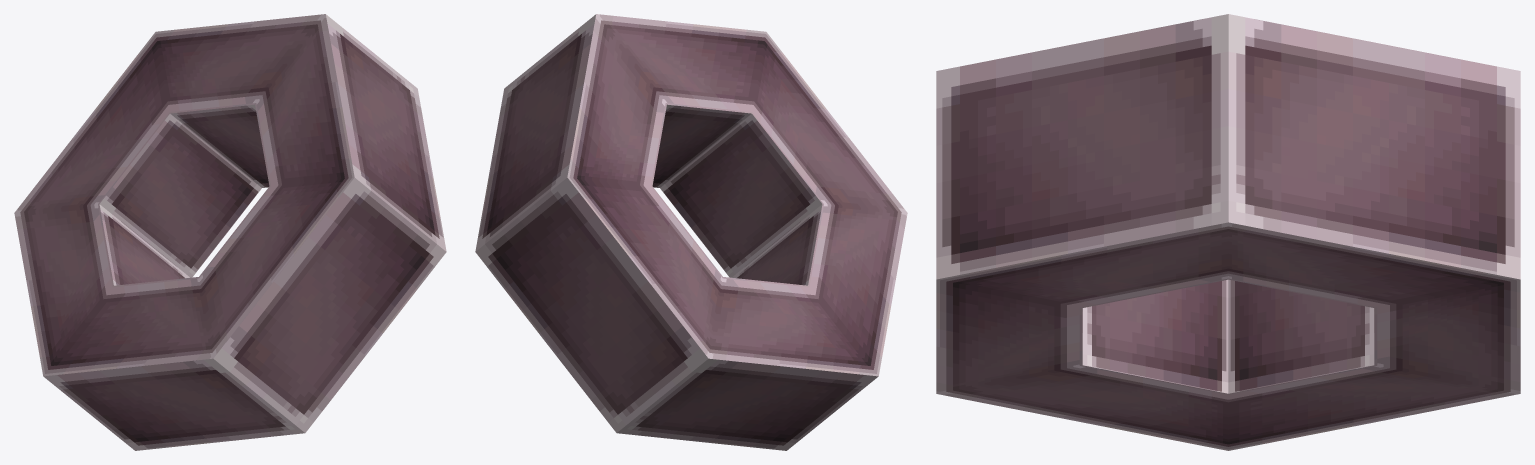
File: bolt-5.glb
3 renders of one model, left to right at view 1: azimuth 30°, elevation 25°; view 2: azimuth 150°, elevation 25°; view 3: azimuth 270°, elevation 25°, orthographic. The views are drawn at different scales.
Visible parts, largest first — view 1: Bolt-5; view 2: Bolt-5; view 3: Bolt-5.
Boxes of the visible parts, x1,y1,x2,y2 form: Bolt-5: (14, 14, 446, 450); Bolt-5: (475, 14, 907, 450); Bolt-5: (936, 14, 1520, 450).
Size of the model in its own units: 0.6506 by 0.6482 by 0.5988.
1 material, 1 textured.
